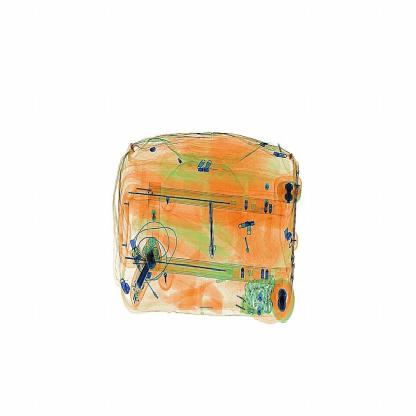knife: (203, 200, 217, 261)
